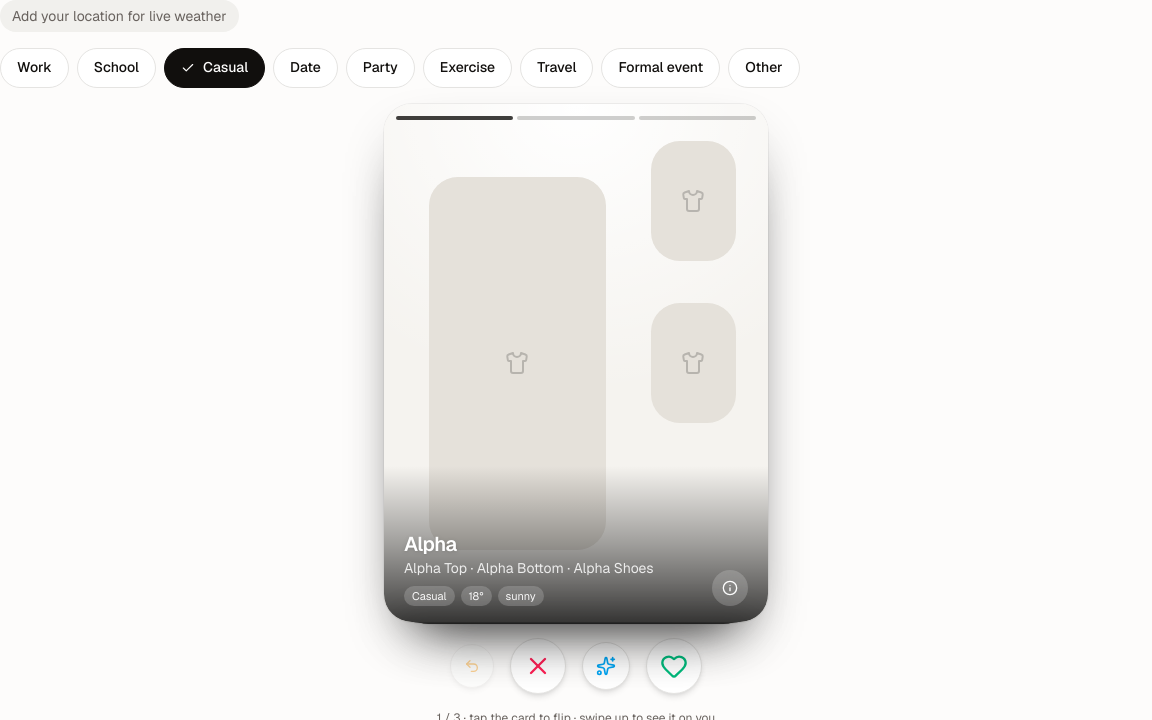
Test: SwipeDeck › right arrow saves and advances; left skips; backspace undoes
Expected: the element that starts with "Alpha" is shown, left=384, top=104, right=768, bottom=622
Press ArrowRight
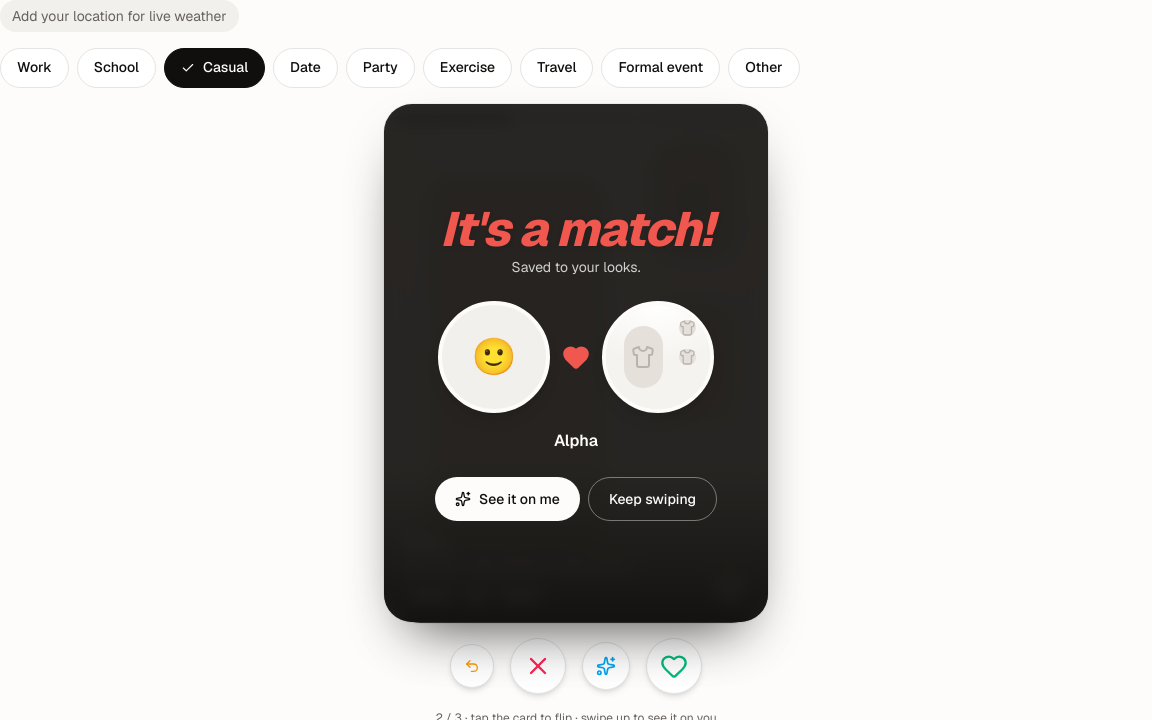
Result: the dialog "Saved" is shown at left=384, top=104, right=768, bottom=622
Click the button "Keep swiping" at (652, 499), box left=588, top=477, right=717, bottom=521
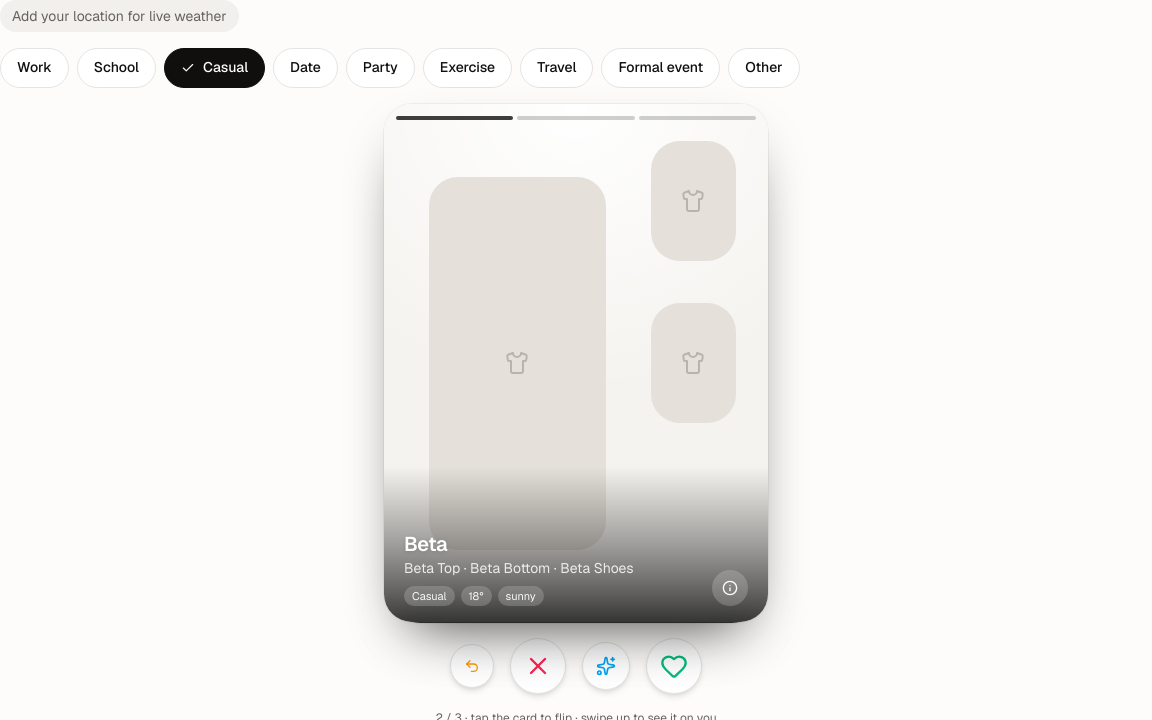
Result: the text "Saved" is gone
Press ArrowLeft
(page scrolled)
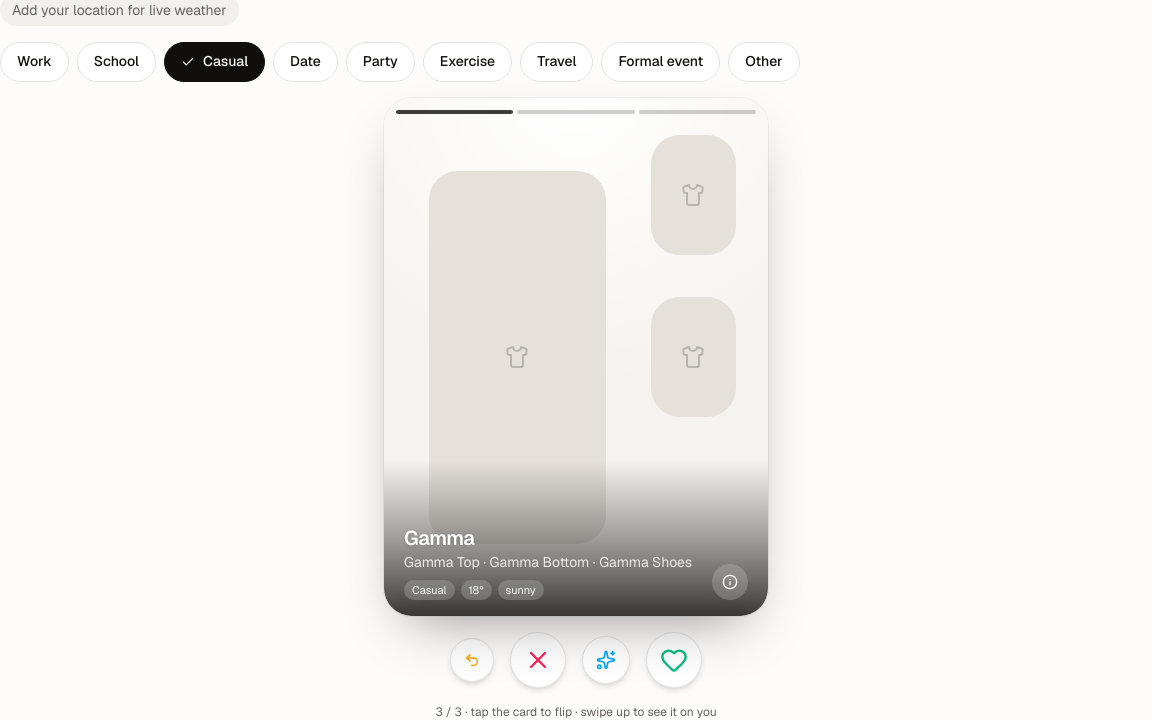
Result: the text "3 / 3" is shown at left=435, top=704, right=716, bottom=719
Press Backspace
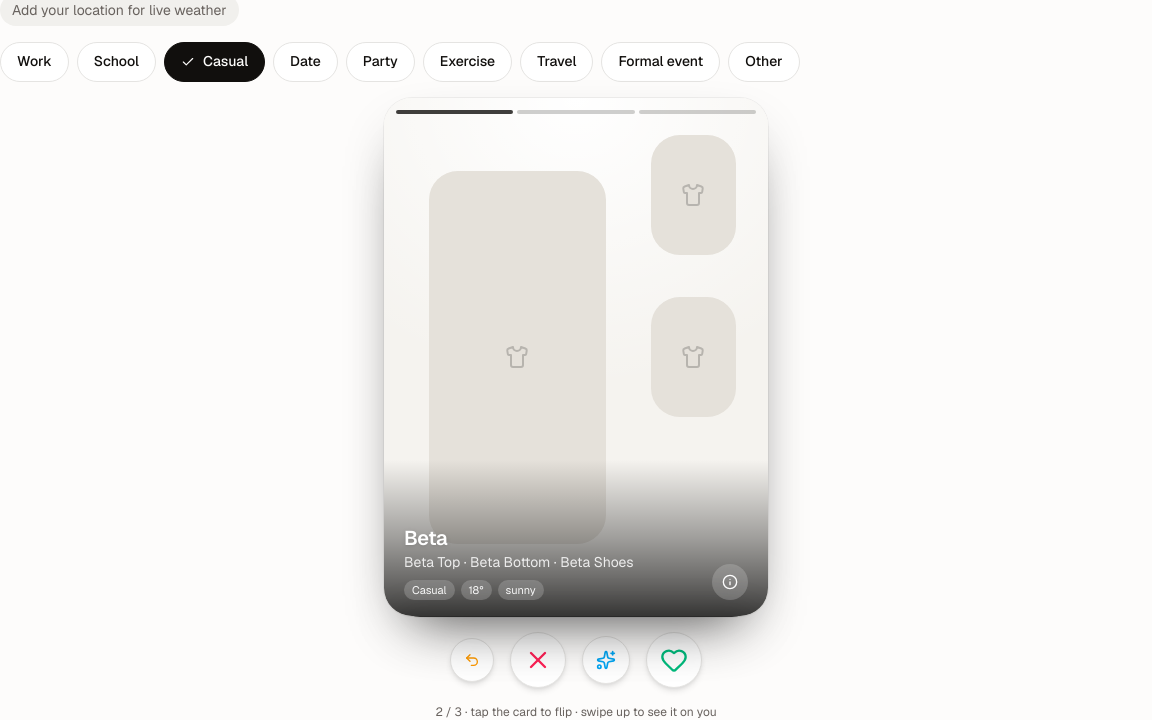
Result: the text "2 / 3" is shown at left=435, top=704, right=717, bottom=719
